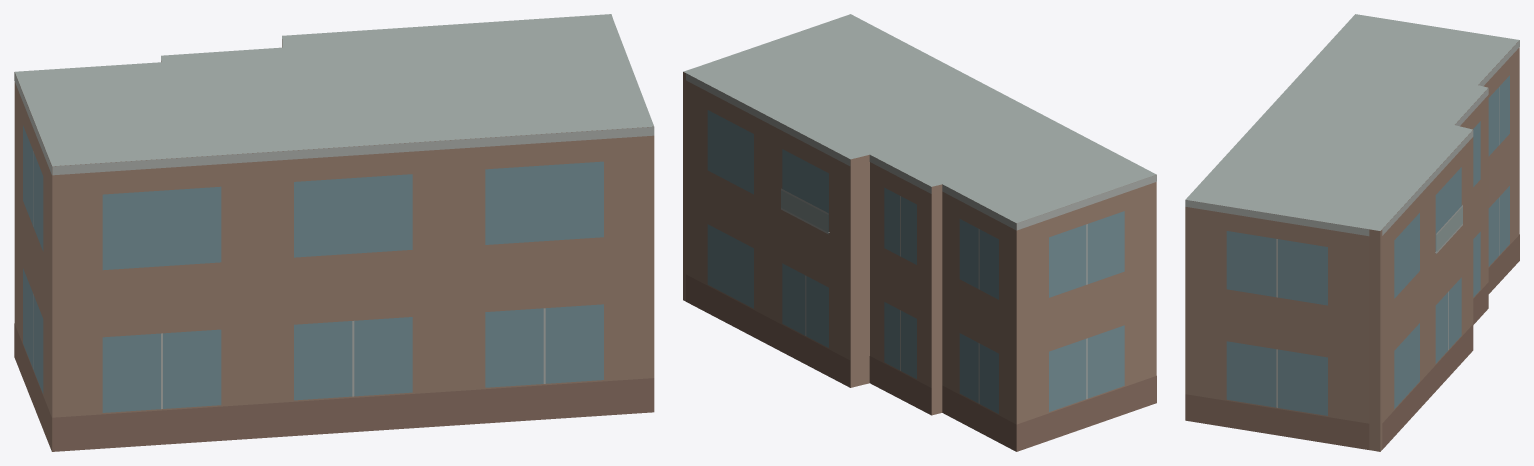
Rendered from survey-upis-32517749.glb.
The picture shows the model from 3 angles, left to right: view 1: azimuth 30°, elevation 25°; view 2: azimuth 150°, elevation 25°; view 3: azimuth 270°, elevation 25°; orthographic projection. The views are drawn at different scales.
Parts seen in each view (by area): view 1: survey-upis-32517749.tmp; view 2: survey-upis-32517749.tmp; view 3: survey-upis-32517749.tmp.
Boxes of the visible parts, left/top/right/bottom form: survey-upis-32517749.tmp: left=14, top=14, right=654, bottom=451; survey-upis-32517749.tmp: left=683, top=14, right=1156, bottom=451; survey-upis-32517749.tmp: left=1185, top=14, right=1519, bottom=451.
Size of the model in its own units: 16.25 by 7.7 by 10.58.
